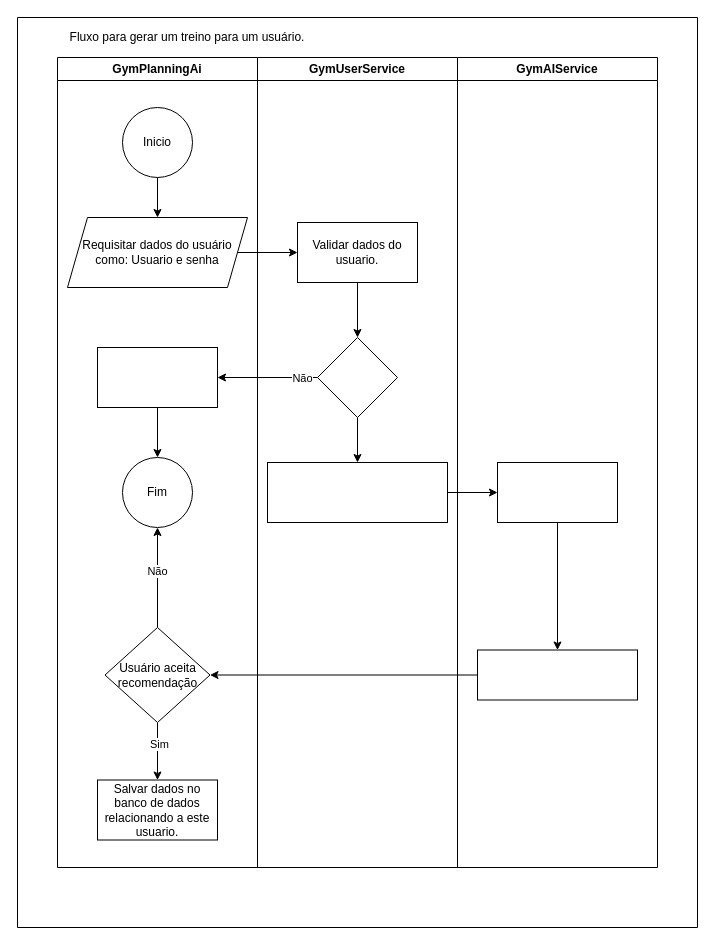
Image size: 715x945. Some labels were removed from this diagram. Here are the shapes that lost their labels. From the top down, the centre of each, then its label:
point (157, 377): Informar ao usuário que os dados não sao validos.
point (357, 377): Valido?
point (357, 492): Buscar as prefencias do usuários antes registradas e enviar para AI Service
point (557, 492): Enviar para API de AI o prompt com os dados de preferencia do usuário.
point (557, 674): Tratar os dados da AI e enviar para o usuário
